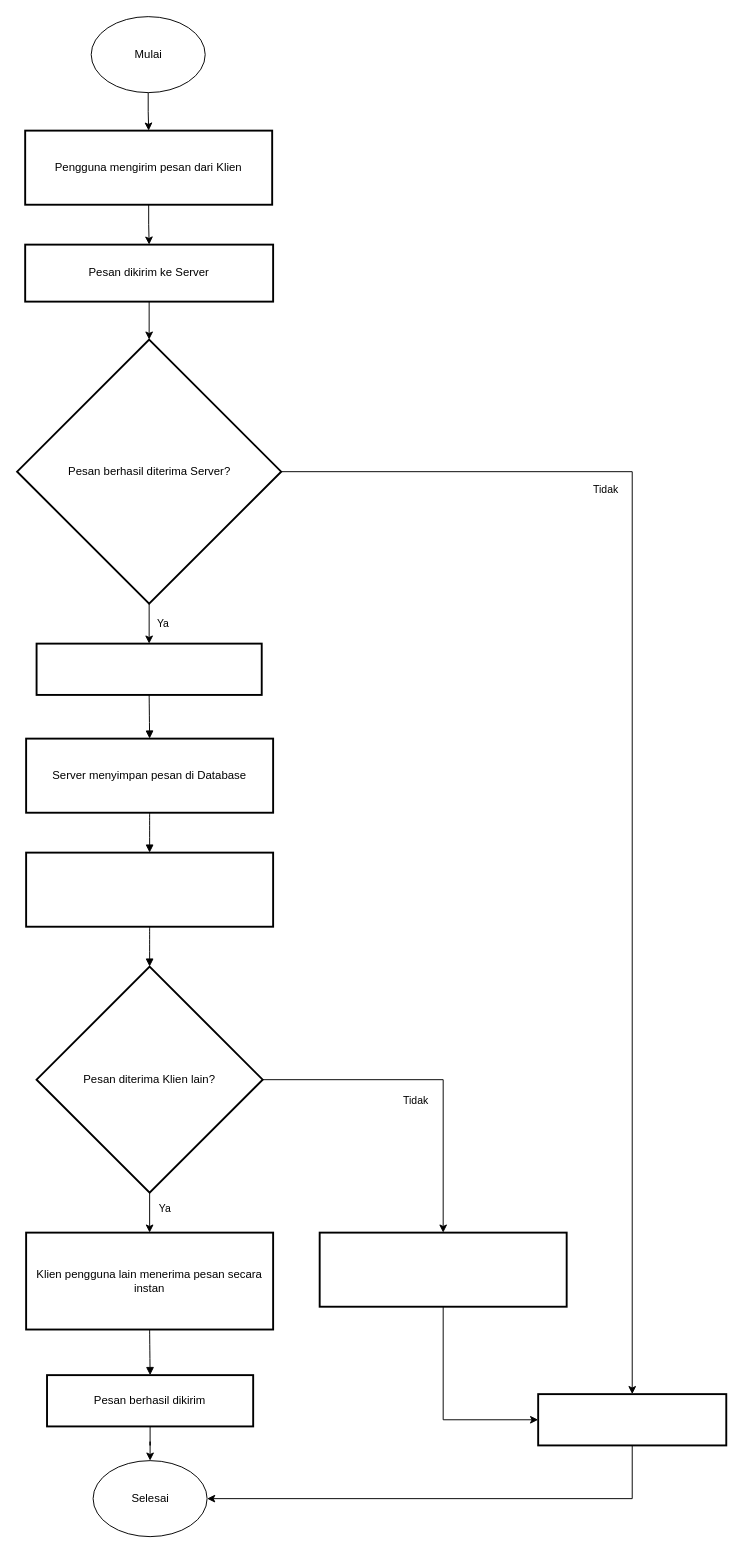
The diagram is 744 pixels wide and 1553 high, and some of its shapes have lost their labels. The shapes that lost their labels are listed below. From the top down, each one's centre as x and y in pixels, then its label:
pixel 148 668: Server memproses pesan
pixel 149 889: Server menyiarkan pesan ke semua peserta lain
pixel 442 1269: Pesan gagal diterima oleh Klien lain
pixel 632 1419: Pesan gagal dikirim
